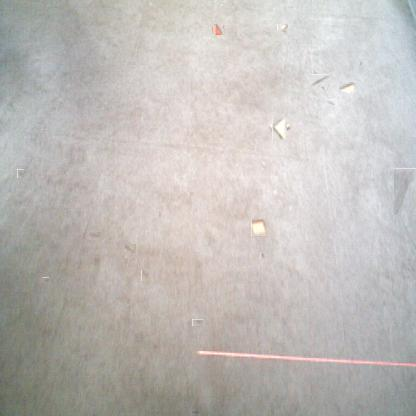dirty: (270, 120, 290, 139), (251, 218, 266, 236), (338, 80, 356, 94), (212, 24, 224, 34), (278, 23, 288, 32)
mark: (394, 168, 416, 215), (311, 72, 328, 90), (124, 244, 136, 258), (141, 270, 150, 282), (89, 232, 101, 240), (193, 318, 202, 327), (92, 255, 100, 265), (17, 169, 24, 178), (358, 58, 364, 68), (328, 99, 335, 107), (42, 276, 49, 283), (158, 211, 162, 221), (260, 251, 265, 259), (194, 409, 199, 415)
